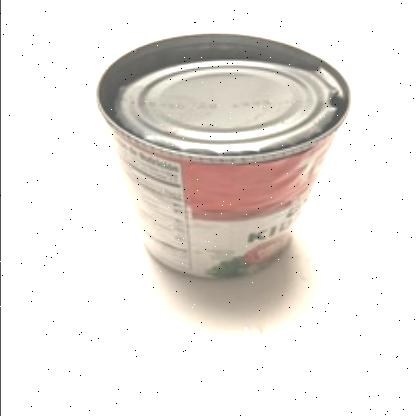Can: (93, 31, 351, 283)
